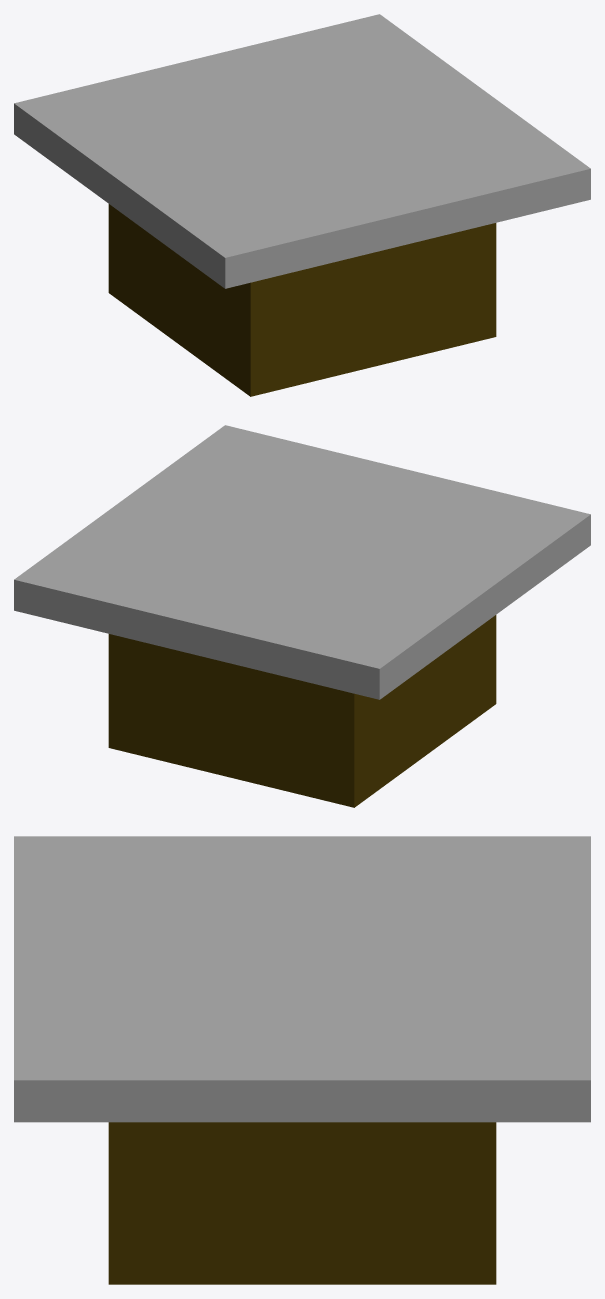
File: IslandTables.fbx
3 renders of one model, top to bottom at view 1: azimuth 30°, elevation 25°; view 2: azimuth 150°, elevation 25°; view 3: azimuth 270°, elevation 25°, orthographic. The views are drawn at different scales.
Visible parts, largest first — view 1: pCube139; view 2: pCube139; view 3: pCube139.
Part boxes in pixels (box(x1,y1,x2,y2)): pCube139: box(14, 14, 590, 396); pCube139: box(14, 425, 590, 807); pCube139: box(14, 836, 590, 1284).
Size of the model in its own units: 12.36 by 5.78 by 12.36.
